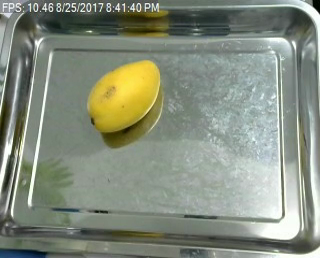Mango: (83, 57, 164, 137)
